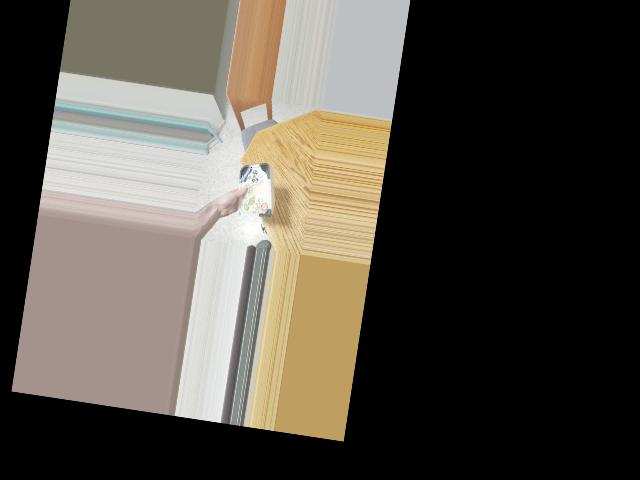cheese: (229, 164, 278, 210)
